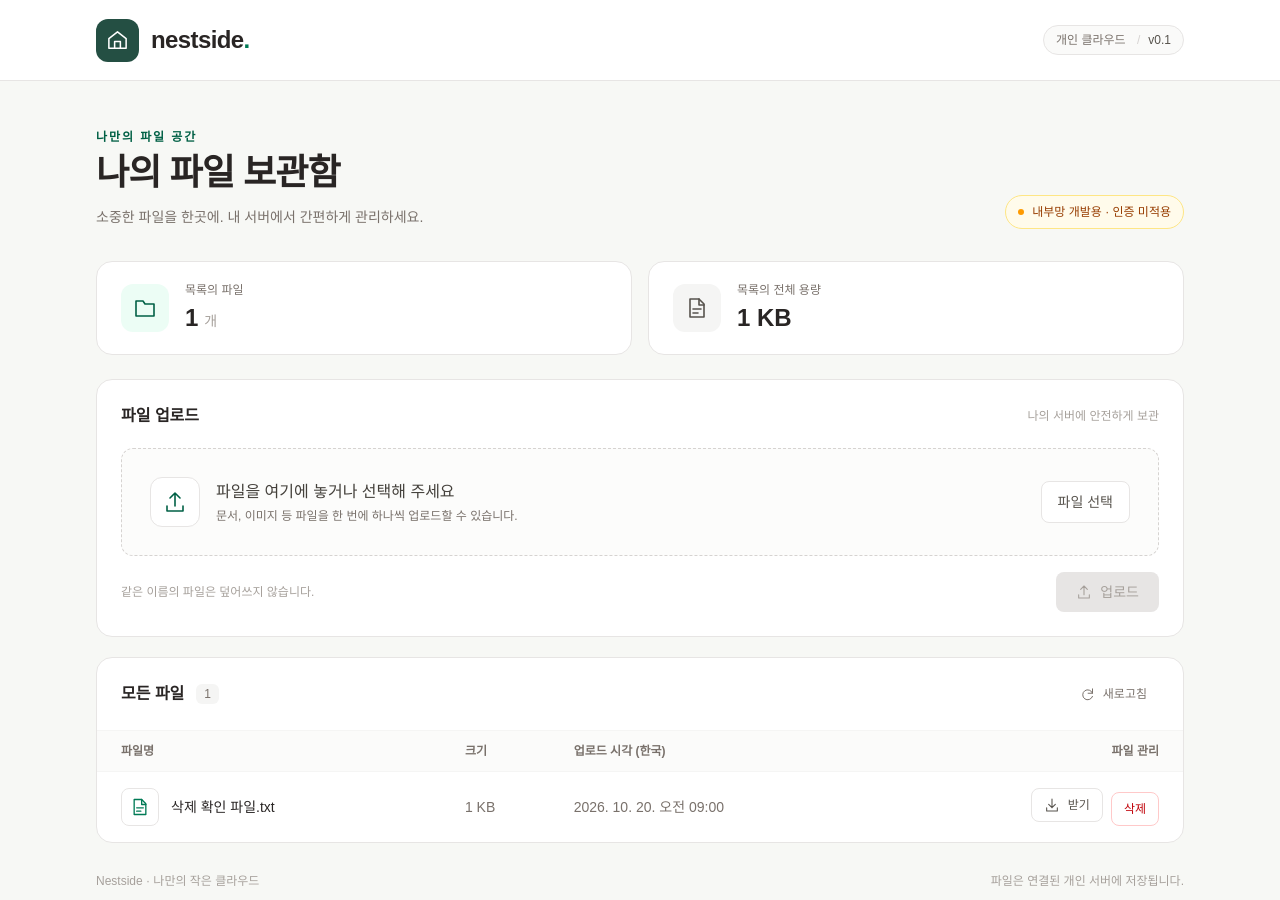
Test: 파일명과 복구 경고를 표시하고 취소에 초점을 둔다
The image size is (1280, 900).
Click the button "삭제" at (1135, 809), box [1111, 792, 1159, 826]
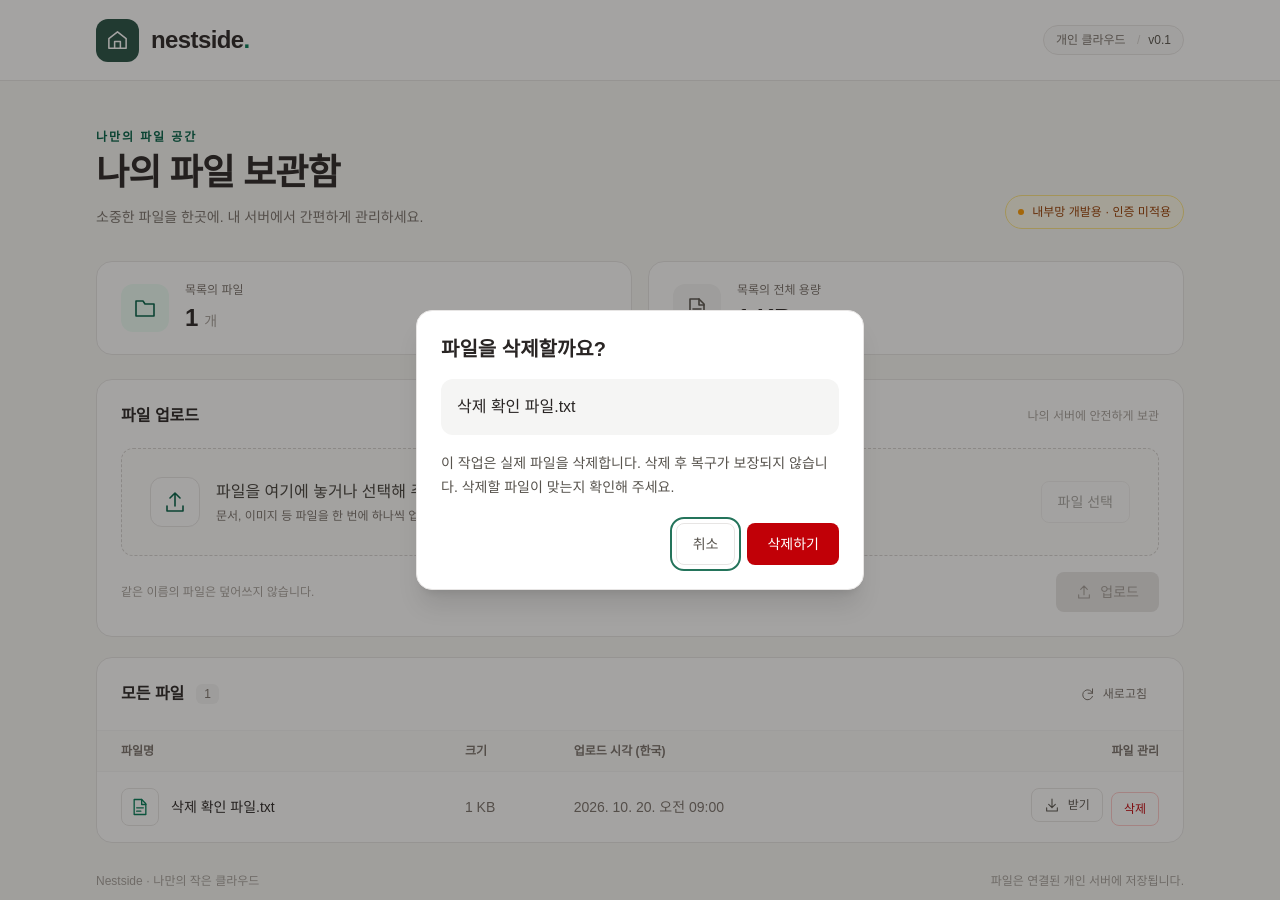
Result: the text "삭제 확인 파일.txt" is shown at [441, 379, 839, 435]
Result: the text "이 작업은 실제 파일을 삭제합니다. 삭제 후 복구가 보장되지 않습니다. 삭제할 파일이 맞는지 확인해 주세요." is shown at [441, 451, 839, 499]
